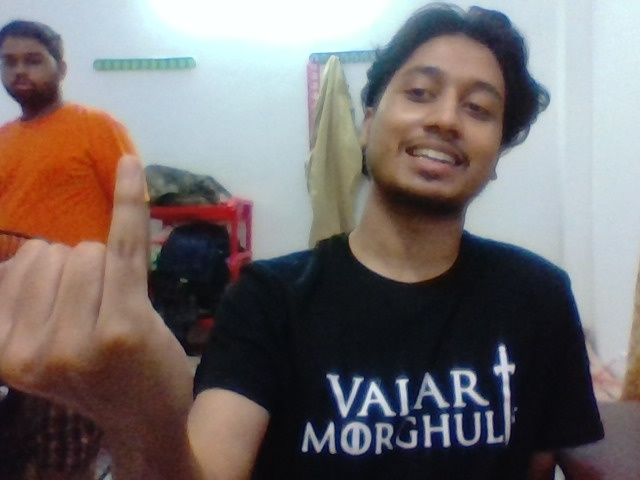I: (19, 129, 183, 412)
